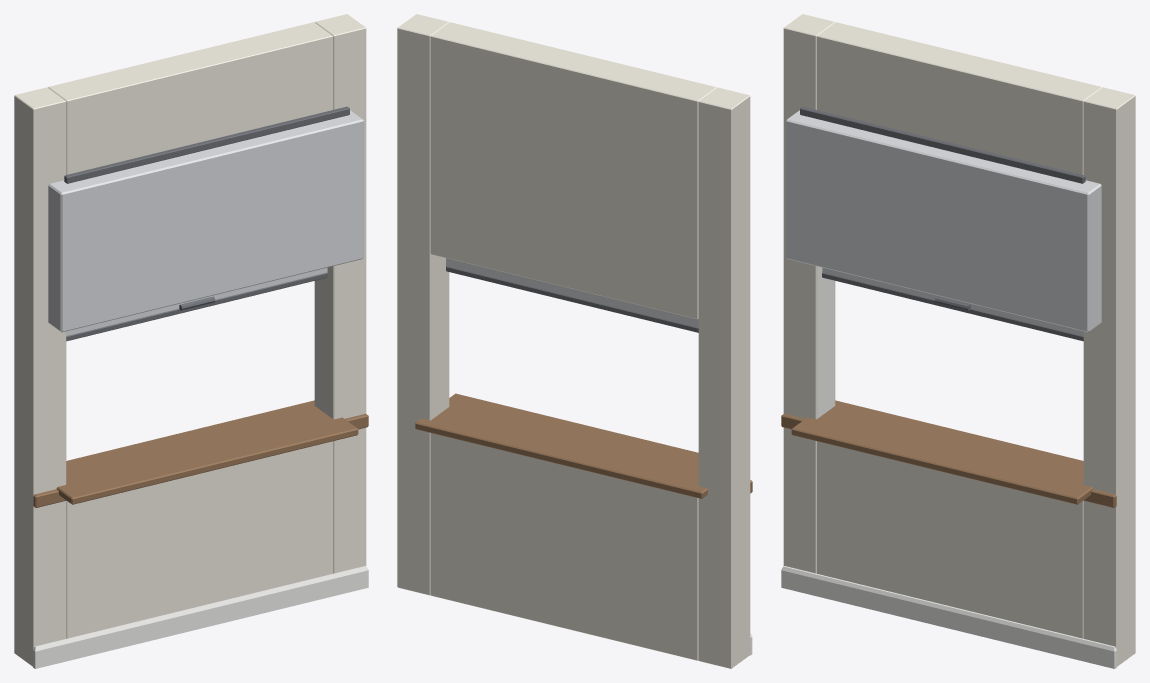
3 renders of one model, left to right at view 1: azimuth 30°, elevation 25°; view 2: azimuth 150°, elevation 25°; view 3: azimuth 330°, elevation 25°, orthographic.
Parts seen in each view (by area): view 1: serving-hatch-module-open, hatch-shutter (×2); view 2: serving-hatch-module-open, hatch-shutter (×2); view 3: serving-hatch-module-open, hatch-shutter (×2).
Part boxes in pixels (left/top/right/bottom): serving-hatch-module-open: left=14, top=14, right=368, bottom=668; hatch-shutter (×2): left=66, top=267, right=327, bottom=341; serving-hatch-module-open: left=397, top=14, right=752, bottom=668; hatch-shutter (×2): left=446, top=258, right=698, bottom=332; serving-hatch-module-open: left=781, top=14, right=1135, bottom=668; hatch-shutter (×2): left=822, top=267, right=1083, bottom=341.
Size of the model in its own units: 2 by 3.2 by 0.4199.
